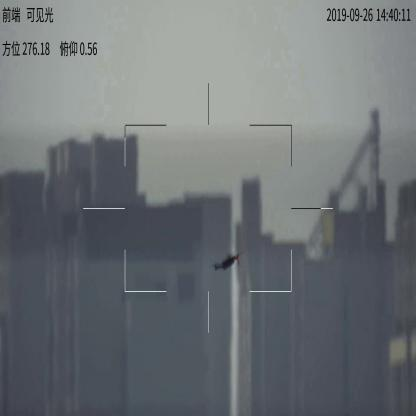uav: (212, 250, 242, 274)
